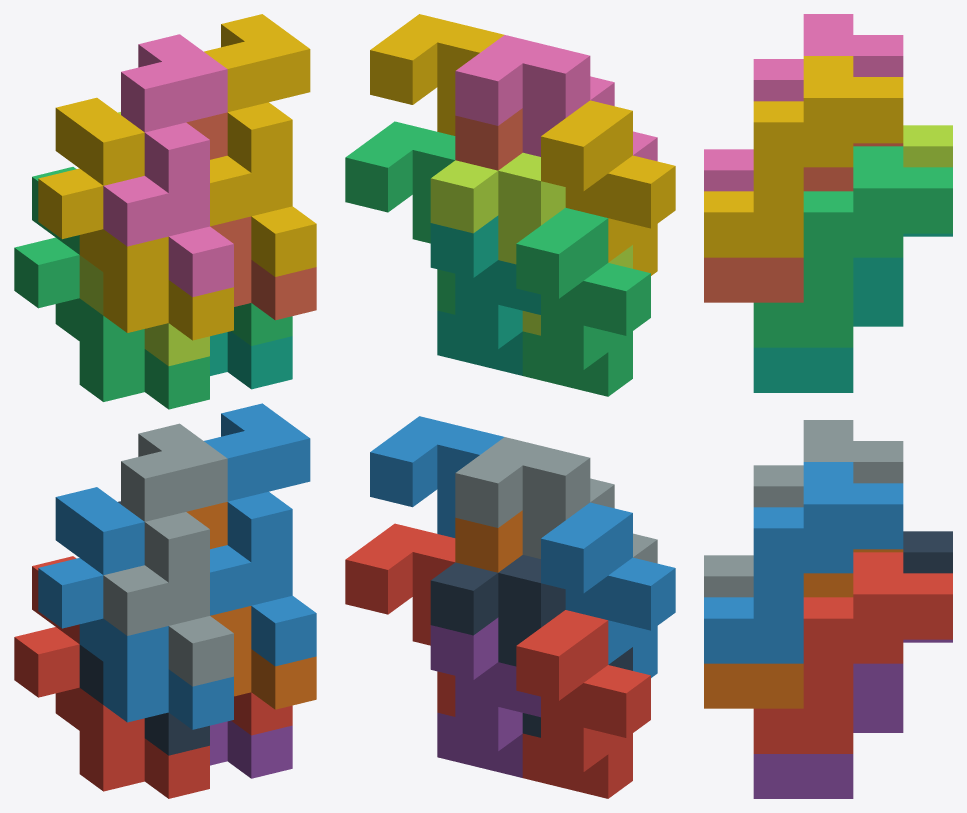
Rendered from tiling.obj.
The picture shows the model from 3 angles, left to right: view 1: azimuth 30°, elevation 25°; view 2: azimuth 150°, elevation 25°; view 3: azimuth 270°, elevation 25°; orthographic projection. The views are drawn at different scales.
Parts seen in each view (by area): view 1: copy_2_domain_4, copy_2_domain_2, copy_1_domain_2, copy_1_domain_4, copy_2_domain_8, copy_2_domain_6, copy_1_domain_1, copy_1_domain_3, copy_1_domain_6, copy_1_domain_8, copy_1_domain_7, copy_1_domain_5 (+4 smaller); view 2: copy_1_domain_3, copy_1_domain_1, copy_1_domain_4, copy_1_domain_2, copy_2_domain_4, copy_2_domain_2, copy_1_domain_7, copy_1_domain_5, copy_2_domain_1, copy_2_domain_3, copy_2_domain_7, copy_2_domain_5 (+4 smaller); view 3: copy_2_domain_6, copy_2_domain_8, copy_2_domain_5, copy_2_domain_7, copy_2_domain_2, copy_2_domain_4, copy_1_domain_7, copy_1_domain_5, copy_1_domain_6, copy_1_domain_8, copy_2_domain_1, copy_2_domain_3.
Boxes of the visible parts, <box> form: copy_2_domain_4: <box>103,34,233,297</box>; copy_2_domain_2: <box>103,423,233,686</box>; copy_1_domain_2: <box>38,487,233,729</box>; copy_1_domain_4: <box>38,97,233,340</box>; copy_2_domain_8: <box>204,14,316,276</box>; copy_2_domain_6: <box>204,403,316,666</box>; copy_1_domain_1: <box>14,556,209,798</box>; copy_1_domain_3: <box>14,167,209,409</box>; copy_1_domain_6: <box>186,502,316,709</box>; copy_1_domain_8: <box>186,112,316,320</box>; copy_1_domain_7: <box>210,331,292,389</box>; copy_1_domain_5: <box>210,720,292,778</box>; copy_1_domain_3: <box>516,207,650,396</box>; copy_1_domain_1: <box>516,610,650,798</box>; copy_1_domain_4: <box>541,100,675,275</box>; copy_1_domain_2: <box>541,502,675,677</box>; copy_2_domain_4: <box>455,35,657,161</box>; copy_2_domain_2: <box>455,437,657,563</box>; copy_1_domain_7: <box>430,215,540,375</box>; copy_1_domain_5: <box>430,617,540,777</box>; copy_2_domain_1: <box>430,555,632,737</box>; copy_2_domain_3: <box>430,152,632,335</box>; copy_2_domain_7: <box>345,121,455,314</box>; copy_2_domain_5: <box>345,523,455,716</box>; copy_2_domain_6: <box>704,462,903,663</box>; copy_2_domain_8: <box>704,56,903,257</box>; copy_2_domain_5: <box>753,552,952,753</box>; copy_2_domain_7: <box>753,146,952,347</box>; copy_2_domain_2: <box>704,420,903,597</box>; copy_2_domain_4: <box>704,14,903,191</box>; copy_1_domain_7: <box>753,233,952,392</box>; copy_1_domain_5: <box>753,639,952,798</box>; copy_1_domain_6: <box>704,549,903,708</box>; copy_1_domain_8: <box>704,143,903,302</box>; copy_2_domain_1: <box>903,531,952,573</box>; copy_2_domain_3: <box>903,125,952,167</box>.
Bounding box in the file's own units: 6 × 16 × 5.
